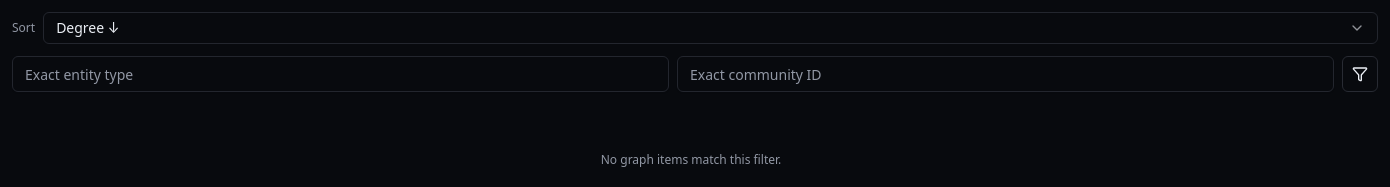
Scenario: Graph list filter submission › aborts the previous Entity request when a new filter is applied
The image size is (1390, 187).
Type "PERSON" into the field named "Entity type filter" at point(340, 74), box [12,56,669,92]
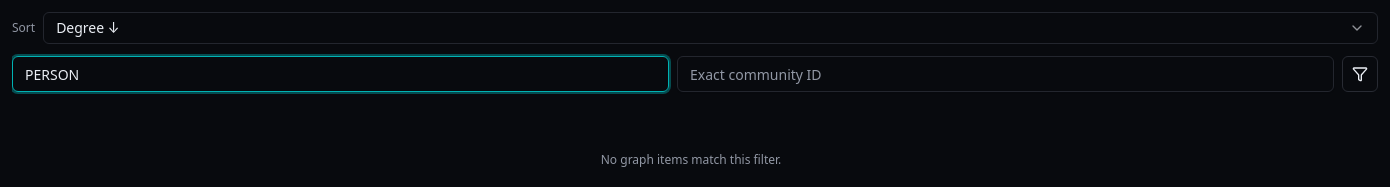
Click the button named "Apply entity filters" at point(1360, 74), box [1342,56,1378,92]
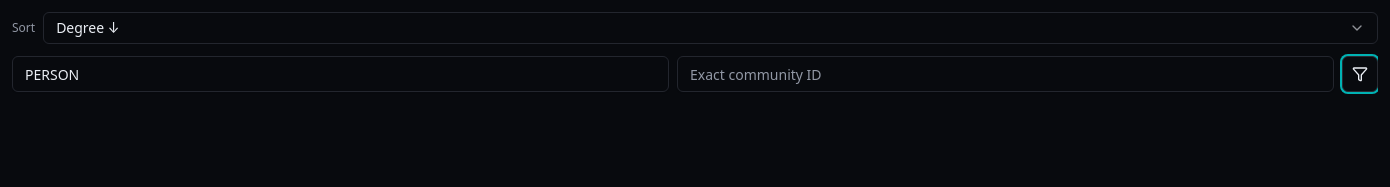
Replace the text in the field named "Entity type filter" with "ORG" at point(340, 74), box [12,56,669,92]
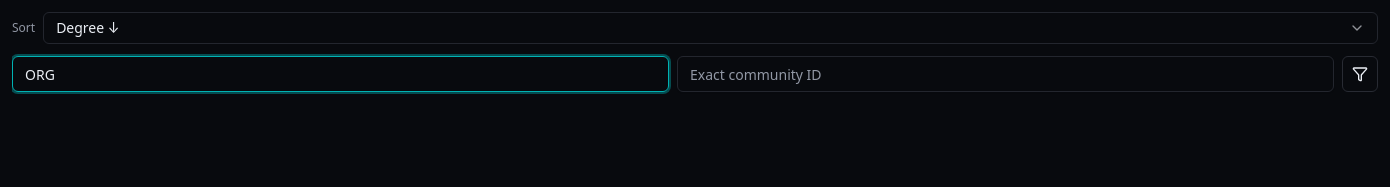
Click the button named "Apply entity filters" at point(1360, 74), box [1342,56,1378,92]
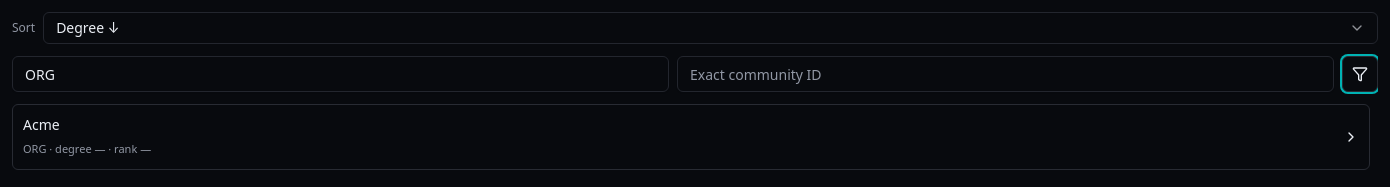
Now the text "Acme" is shown, box [23,115,60,134]
